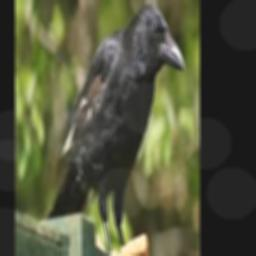Crow: (45, 4, 185, 256)
